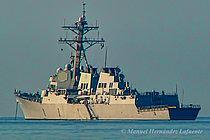MIL_Ship: (11, 59, 202, 122)
